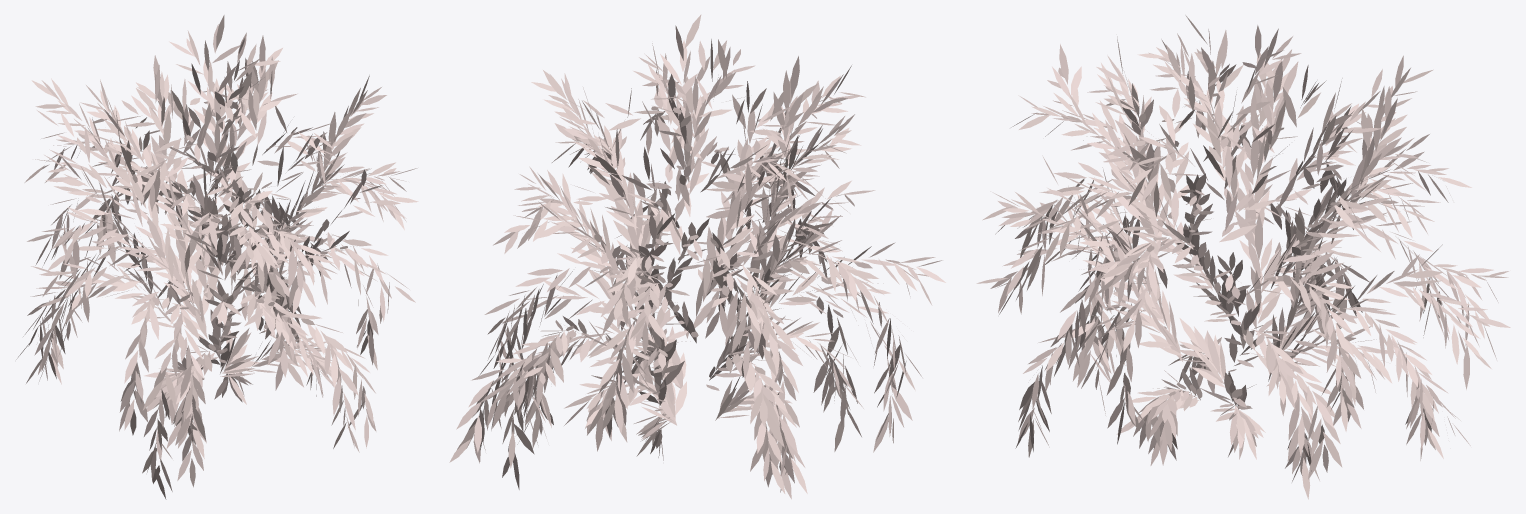
Rendered from 大型木タイプ2.fbx.
The picture shows the model from 3 angles, left to right: view 1: azimuth 30°, elevation 25°; view 2: azimuth 150°, elevation 25°; view 3: azimuth 270°, elevation 25°; orthographic projection. The views are drawn at different scales.
Parts seen in each view (by area): view 1: leaves.052; view 2: leaves.052; view 3: leaves.052.
Part boxes in pixels (x1,y1,x2,y2): leaves.052: [16, 15, 418, 499]; leaves.052: [449, 14, 945, 499]; leaves.052: [976, 15, 1510, 499].
Bounding box in the file's own units: 10667 × 11034 × 11883.
